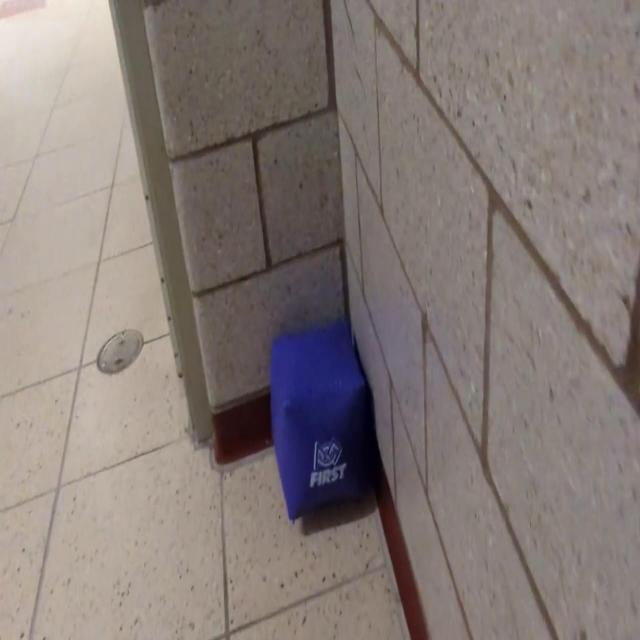frc_cube: (269, 324, 371, 522)
